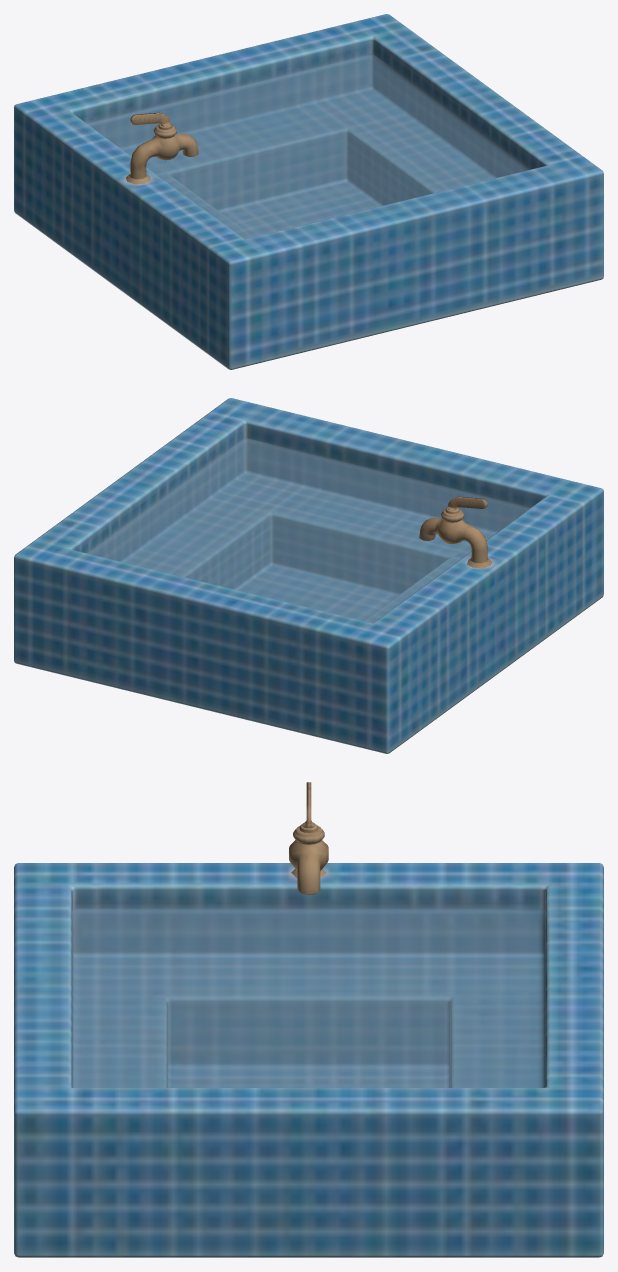
3 renders of one model, top to bottom at view 1: azimuth 30°, elevation 25°; view 2: azimuth 150°, elevation 25°; view 3: azimuth 270°, elevation 25°, orthographic. The views are drawn at different scales.
Bounding box in the file's own units: 19.8 × 8.74 × 19.8.
2 materials, 1 textured.
